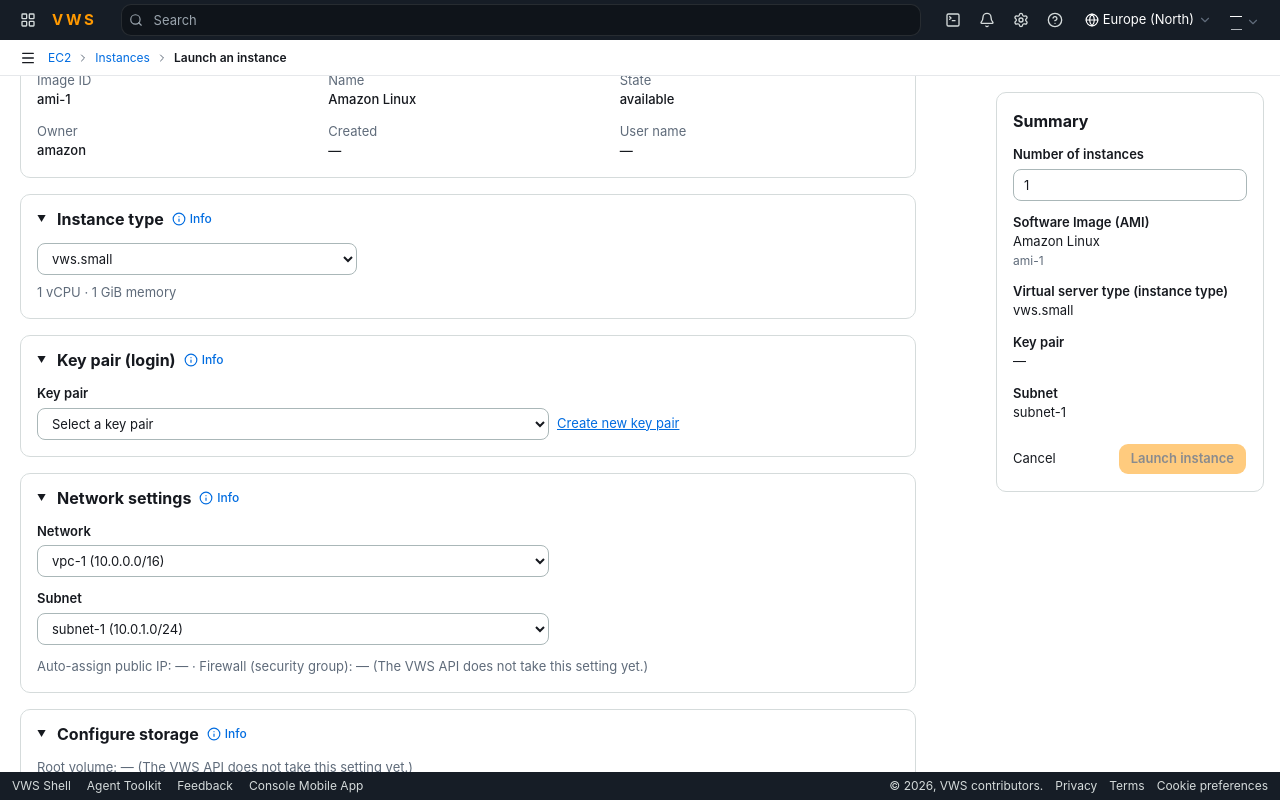
Test: launch key pair selection › opens key pair create from a blue text link
(page scrolled)
Click the button "Create new key pair". click: (618, 424)
box: x1=557 y1=414 x2=679 y2=433
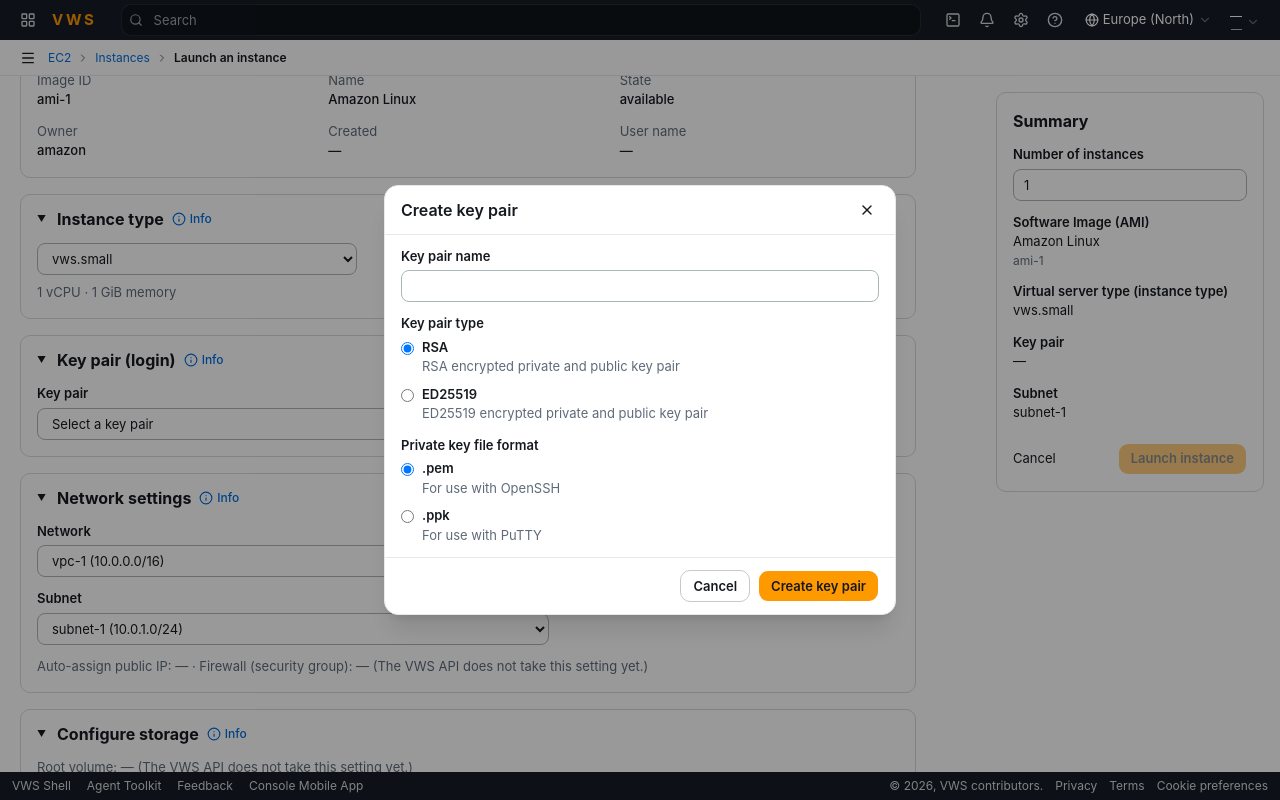
Expected: the dialog "Create key pair" is shown, x1=384 y1=185 x2=896 y2=615
